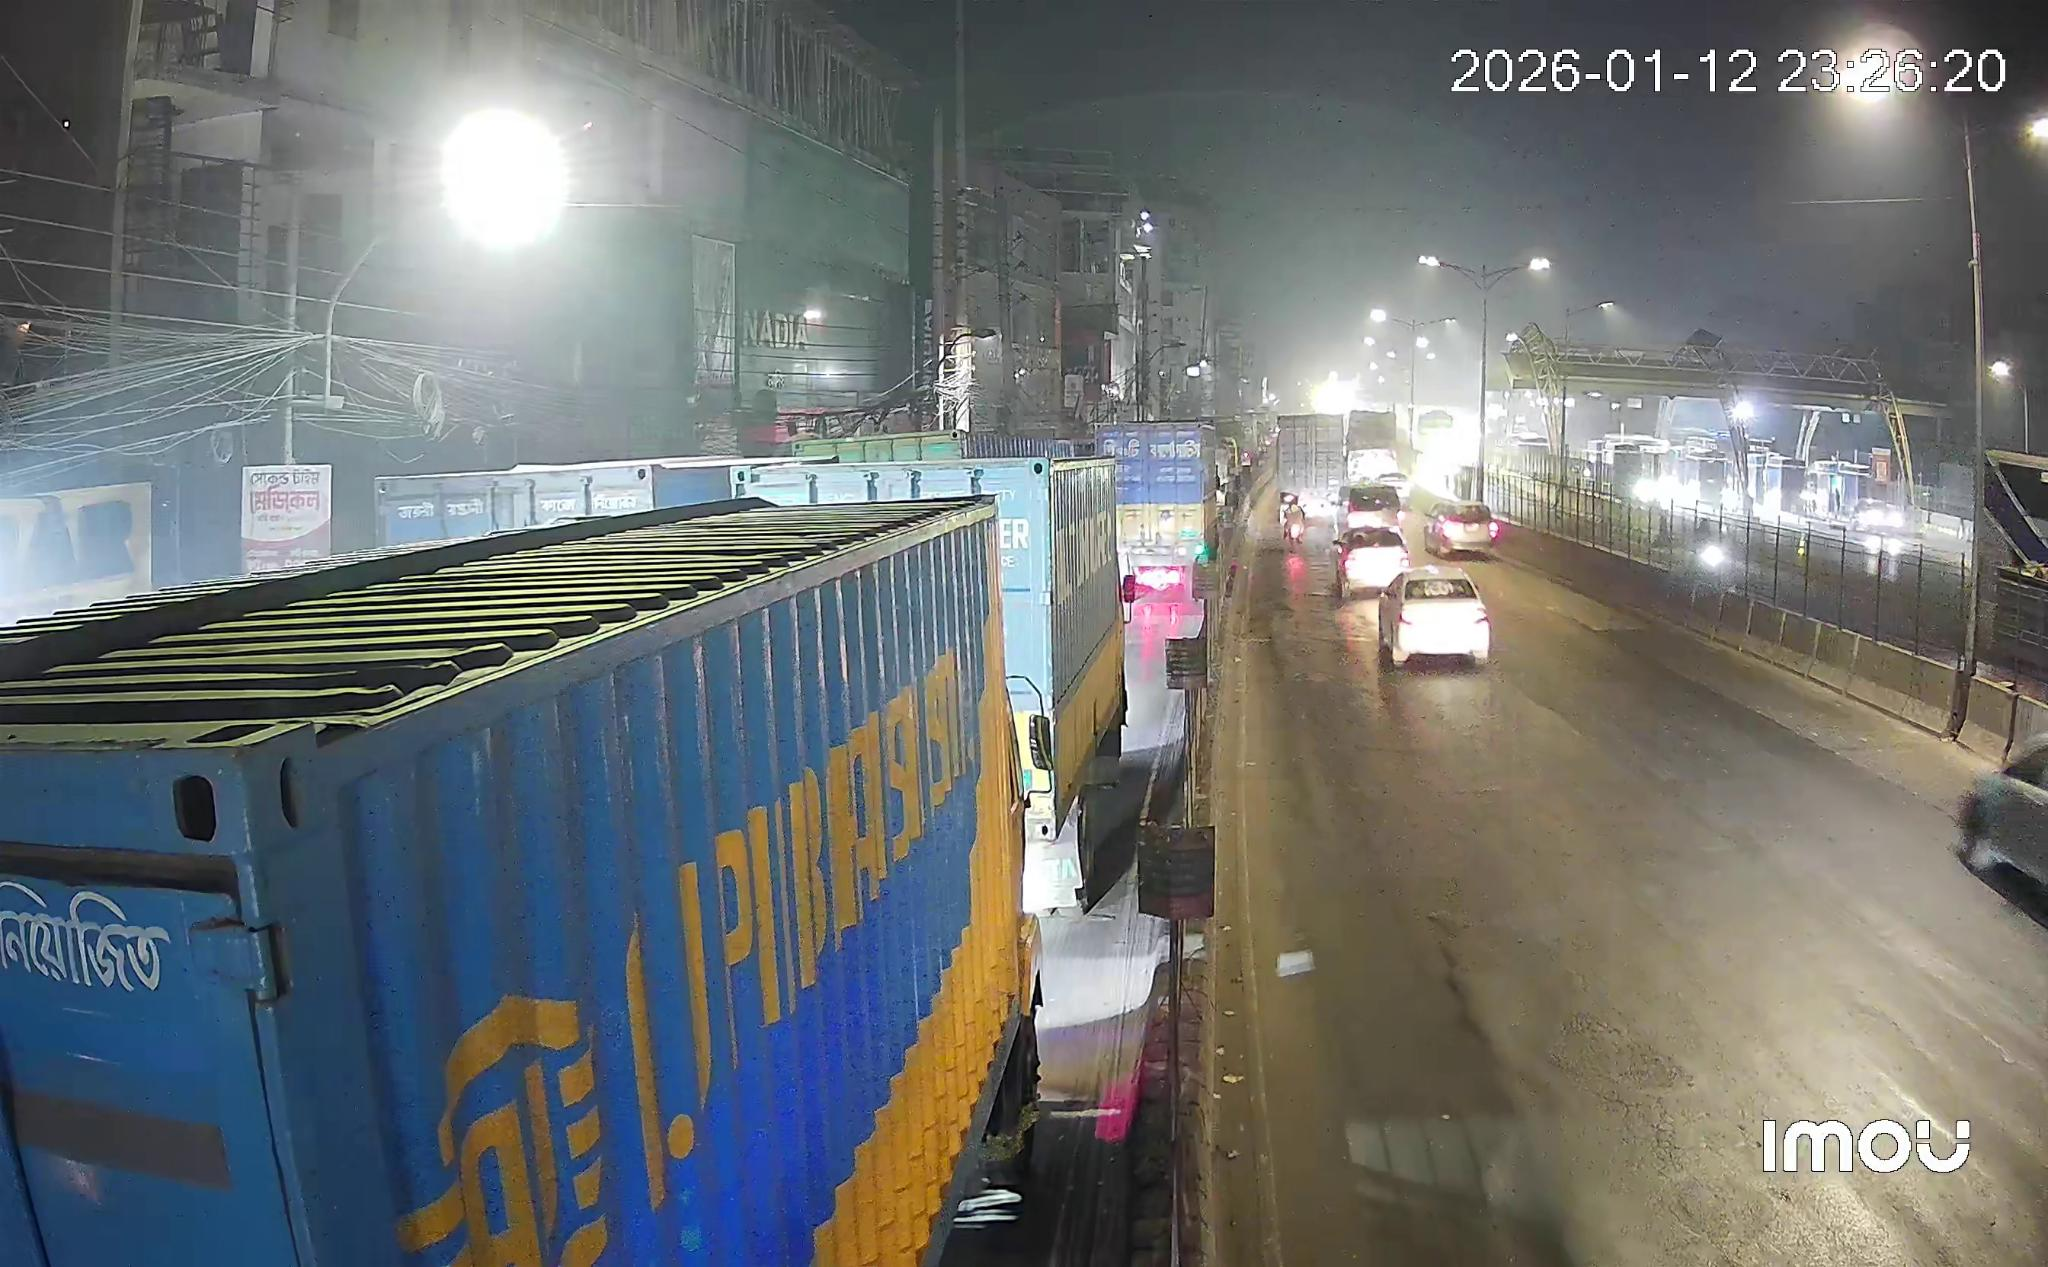Private-Sedan Car: (1956, 737, 2047, 888), (1379, 568, 1491, 667), (1334, 527, 1409, 601), (1425, 502, 1498, 557)
Truck: (0, 497, 1039, 1267), (742, 456, 1135, 913), (1096, 423, 1219, 598), (1274, 414, 1346, 519)
